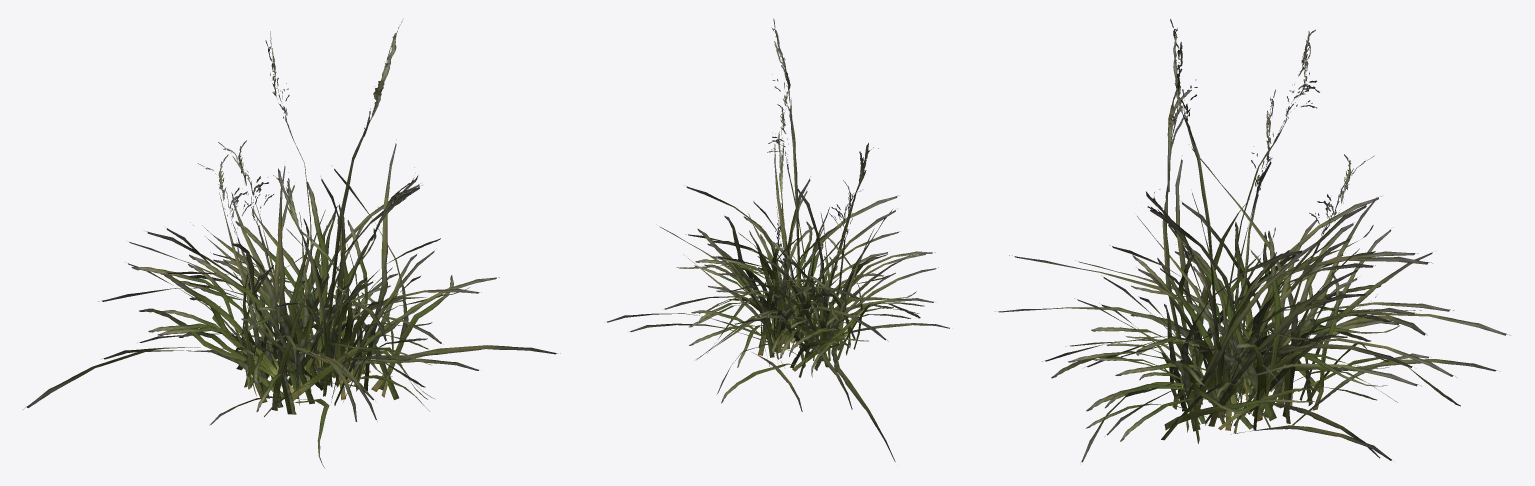
File: grass_medium_01_mid_a.gltf
3 views of the same model, side by side, from view 1: azimuth 30°, elevation 25°; view 2: azimuth 150°, elevation 25°; view 3: azimuth 270°, elevation 25° (orthographic). The views are drawn at different scales.
Parts seen in each view (by area): view 1: grass_medium_01_mid_a_LOD0; view 2: grass_medium_01_mid_a_LOD0; view 3: grass_medium_01_mid_a_LOD0.
Boxes of the visible parts, <box> form: grass_medium_01_mid_a_LOD0: <box>23,21,560,467</box>; grass_medium_01_mid_a_LOD0: <box>607,18,949,461</box>; grass_medium_01_mid_a_LOD0: <box>995,19,1510,462</box>.
Bounding box in the file's own units: 0.2156 × 0.2177 × 0.2214.
Materials: 1 (1 with a texture image).
